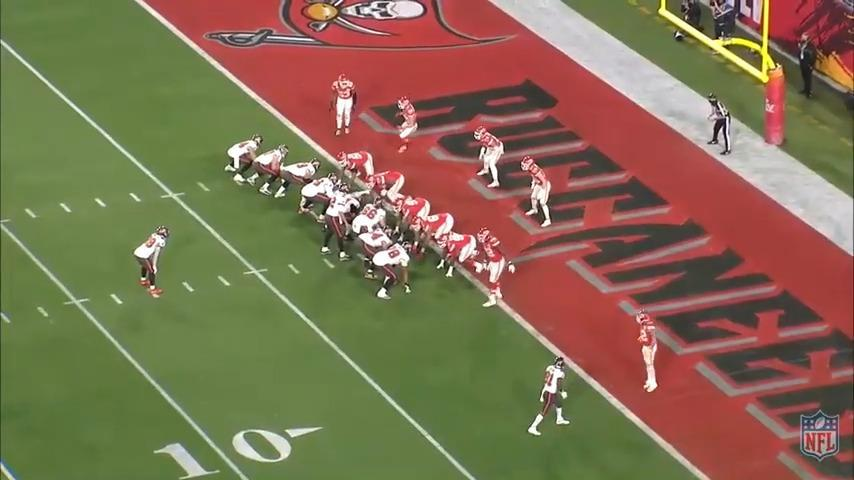player: (529, 352, 572, 438), (130, 224, 169, 301), (317, 187, 357, 257), (633, 303, 663, 396), (371, 240, 412, 304), (476, 225, 506, 311), (436, 231, 485, 281), (524, 153, 556, 228), (407, 211, 456, 259), (469, 124, 504, 191), (221, 134, 266, 185), (297, 171, 339, 224), (253, 145, 292, 199), (359, 223, 397, 278), (325, 188, 366, 237), (332, 74, 362, 139), (335, 150, 380, 191), (386, 193, 429, 234), (347, 200, 387, 243), (392, 94, 420, 155), (364, 168, 407, 205), (281, 159, 319, 200)
ref: (704, 96, 734, 159)
